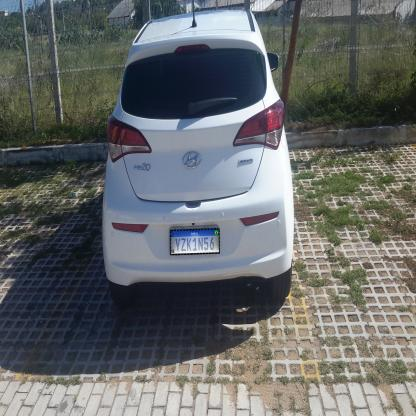PlacaM: (170, 228, 220, 255)
